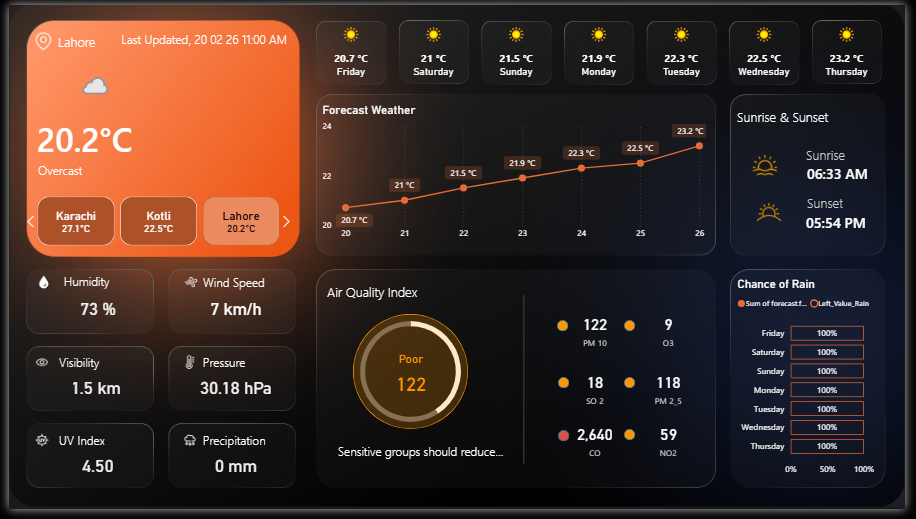

Layout of this report page (visuals, bound fields, positions):
{"tool":"powerbi","page":{"name":"Dashboard","canvas":[1280,720],"ordinal":0},"visuals":[{"type":"shape","box":[492.2,442.3,164.6,164],"z":0},{"type":"donutChart","fields":{"Y":["Sum(Current.current.air_quality.pm10)","Key Measures.Left value PM10"]},"box":[479,429.1,189.6,189.6],"z":1000},{"type":"advancedSlicerVisual","fields":{"Values":["Locations.location.name"]},"box":[16.2,268.9,396.7,80.8],"z":2000},{"type":"shape","box":[41.1,214.5,199.8,42.6],"z":3000},{"type":"shape","box":[70.5,33.8,122,35.3],"z":4000},{"type":"image","box":[26.4,33.8,44.1,35.3],"z":5000},{"type":"cardVisual","fields":{"Data":["Min(Current.current.condition.icon)"]},"box":[26.4,72,139.6,88.2],"z":6000},{"type":"image","box":[26.4,382,45.6,29.4],"z":7000},{"type":"shape","box":[77.9,377.6,122,33.8],"z":8000},{"type":"shape","box":[277.7,382,119,29.4],"z":9000},{"type":"image","box":[241,382,36.7,29.4],"z":10000},{"type":"image","box":[26.4,495.2,39.7,29.4],"z":11000},{"type":"image","box":[26.4,606.9,39.7,29.4],"z":12000},{"type":"image","box":[238,495.2,39.7,29.4],"z":13000},{"type":"image","box":[238,606.9,39.7,29.4],"z":14000},{"type":"shape","box":[277.7,606.9,119,29.4],"z":15000},{"type":"shape","box":[72,606.9,119,29.4],"z":16000},{"type":"shape","box":[72,495.2,119,29.4],"z":17000},{"type":"shape","box":[277.7,495.2,119,29.4],"z":18000},{"type":"card","fields":{"Values":["Key Measures.Humidity"]},"box":[61.7,411.4,130.8,44.1],"z":19000},{"type":"card","fields":{"Values":["Sum(Current.current.uv)"]},"box":[61.7,636.2,130.8,44.1],"z":20000},{"type":"card","fields":{"Values":["Key Measures.Pressure"]},"box":[258.6,524.6,130.8,44.1],"z":21000},{"type":"card","fields":{"Values":["Key Measures.Visibility"]},"box":[58.8,524.6,130.8,44.1],"z":22000},{"type":"card","fields":{"Values":["Key Measures.Wind_speed"]},"box":[258.6,411.4,130.8,44.1],"z":23000},{"type":"card","fields":{"Values":["Key Measures.Precipitation"]},"box":[258.6,636.2,130.8,44.1],"z":24000},{"type":"advancedSlicerVisual","fields":{"Values":["Forcast_day.Day_Name"]},"box":[429.1,17.6,830.2,104.3],"z":25000},{"type":"shape","box":[39.7,160.2,199.8,61.7],"z":26000},{"type":"shape","box":[151.3,26.4,245.4,42.6],"z":27000},{"type":"lineChart","title":"Forecast Weather","fields":{"Y":["Sum(Forcast_day.forecast.forecastday.day.avgtemp_c)"],"Category":["Forcast_day.forecast.forecastday.date.Variation.Date Hierarchy.Day"]},"box":[442.3,139.6,558.4,204.2],"z":28000},{"type":"shape","box":[1040.3,138.1,136.7,42.6],"z":29000},{"type":"shape","box":[1140.2,221.9,101.4,36.7],"z":30000},{"type":"shape","box":[1138.8,289.5,101.4,38.2],"z":31000},{"type":"shape","box":[1140.2,268.9,72,29.4],"z":32000},{"type":"shape","box":[1138.8,199.8,70.5,29.4],"z":33000},{"type":"image","box":[1052.1,205.7,57.3,45.6],"z":34000},{"type":"image","box":[1056.5,266,57.3,60],"z":35000},{"type":"hundredPercentStackedBarChart","title":"Chance of Rain","fields":{"Category":["Forcast_day.Day_Name"],"Y":["Sum(Forcast_day.forecast.forecastday.day.daily_chance_of_rain)","Key Measures.Left_Value_Rain"]},"box":[1035.9,388,205.4,292.4],"z":36000},{"type":"card","fields":{"Values":["Sum(Current.current.air_quality.o3)"]},"box":[903.7,433.5,74.9,61.7],"z":37000},{"type":"shape","box":[454,387.9,141.1,42.6],"z":38000},{"type":"card","fields":{"Values":["Sum(Current.current.air_quality.no2)"]},"box":[903.7,590.7,74.9,61.7],"z":39000},{"type":"card","fields":{"Values":["Sum(Current.current.air_quality.pm2_5)"]},"box":[903.7,515.8,74.9,61.7],"z":40000},{"type":"card","fields":{"Values":["Sum(Current.current.air_quality.pm10)"]},"box":[800,433.3,74.1,61.7],"z":41000},{"type":"card","fields":{"Values":["Sum(Current.current.air_quality.co)"]},"box":[800,590.1,74.1,61.7],"z":42000},{"type":"card","fields":{"Values":["Sum(Current.current.air_quality.so2)"]},"box":[800,516,74.1,61.7],"z":43000},{"type":"shape","box":[783.2,449.6,16.2,16.2],"z":44000},{"type":"shape","box":[879,449.4,16,16],"z":45000},{"type":"shape","box":[879,532.1,16,16],"z":46000},{"type":"shape","box":[784.7,531.9,16.2,16.2],"z":47000},{"type":"shape","box":[784.7,606.9,16.2,16.2],"z":48000},{"type":"shape","box":[879,606.2,16,16],"z":49000},{"type":"shape","box":[721.5,414.4,27.9,241],"z":50000},{"type":"card","fields":{"Values":["Sum(Current.current.air_quality.pm10)"]},"box":[524.6,495.2,99.9,74.9],"z":51000},{"type":"shape","box":[442.3,615.7,279.2,42.6],"z":52000}]}

Visuals, with their boxes in screenshot pixels (x1, y1, x2, y2), scaled from the page's 1280x720 canvas onto the 916x519 screenshot:
shape: bbox=[352, 319, 470, 437]
donutChart - Sum(Current.current.air_quality.pm10) x Key Measures.Left value PM10: bbox=[343, 309, 478, 446]
advancedSlicerVisual - Locations.location.name: bbox=[12, 194, 295, 252]
shape: bbox=[29, 155, 172, 185]
shape: bbox=[50, 24, 138, 50]
image: bbox=[19, 24, 50, 50]
cardVisual - Min(Current.current.condition.icon): bbox=[19, 52, 119, 115]
image: bbox=[19, 275, 52, 297]
shape: bbox=[56, 272, 143, 297]
shape: bbox=[199, 275, 284, 297]
image: bbox=[172, 275, 199, 297]
image: bbox=[19, 357, 47, 378]
image: bbox=[19, 437, 47, 459]
image: bbox=[170, 357, 199, 378]
image: bbox=[170, 437, 199, 459]
shape: bbox=[199, 437, 284, 459]
shape: bbox=[52, 437, 137, 459]
shape: bbox=[52, 357, 137, 378]
shape: bbox=[199, 357, 284, 378]
card - Key Measures.Humidity: bbox=[44, 297, 138, 328]
card - Sum(Current.current.uv): bbox=[44, 459, 138, 490]
card - Key Measures.Pressure: bbox=[185, 378, 279, 410]
card - Key Measures.Visibility: bbox=[42, 378, 136, 410]
card - Key Measures.Wind_speed: bbox=[185, 297, 279, 328]
card - Key Measures.Precipitation: bbox=[185, 459, 279, 490]
advancedSlicerVisual - Forcast_day.Day_Name: bbox=[307, 13, 901, 88]
shape: bbox=[28, 115, 171, 160]
shape: bbox=[108, 19, 284, 50]
"Forecast Weather" lineChart: bbox=[317, 101, 716, 248]
shape: bbox=[744, 100, 842, 130]
shape: bbox=[816, 160, 889, 186]
shape: bbox=[815, 209, 888, 236]
shape: bbox=[816, 194, 867, 215]
shape: bbox=[815, 144, 865, 165]
image: bbox=[753, 148, 794, 181]
image: bbox=[756, 192, 797, 235]
"Chance of Rain" hundredPercentStackedBarChart: bbox=[741, 280, 888, 490]
card - Sum(Current.current.air_quality.o3): bbox=[647, 312, 700, 357]
shape: bbox=[325, 280, 426, 310]
card - Sum(Current.current.air_quality.no2): bbox=[647, 426, 700, 470]
card - Sum(Current.current.air_quality.pm2_5): bbox=[647, 372, 700, 416]
card - Sum(Current.current.air_quality.pm10): bbox=[572, 312, 626, 357]
card - Sum(Current.current.air_quality.co): bbox=[572, 425, 626, 470]
card - Sum(Current.current.air_quality.so2): bbox=[572, 372, 626, 416]
shape: bbox=[560, 324, 572, 336]
shape: bbox=[629, 324, 640, 335]
shape: bbox=[629, 384, 640, 395]
shape: bbox=[562, 383, 573, 395]
shape: bbox=[562, 437, 573, 449]
shape: bbox=[629, 437, 640, 449]
shape: bbox=[516, 299, 536, 472]
card - Sum(Current.current.air_quality.pm10): bbox=[375, 357, 447, 411]
shape: bbox=[317, 444, 516, 475]
